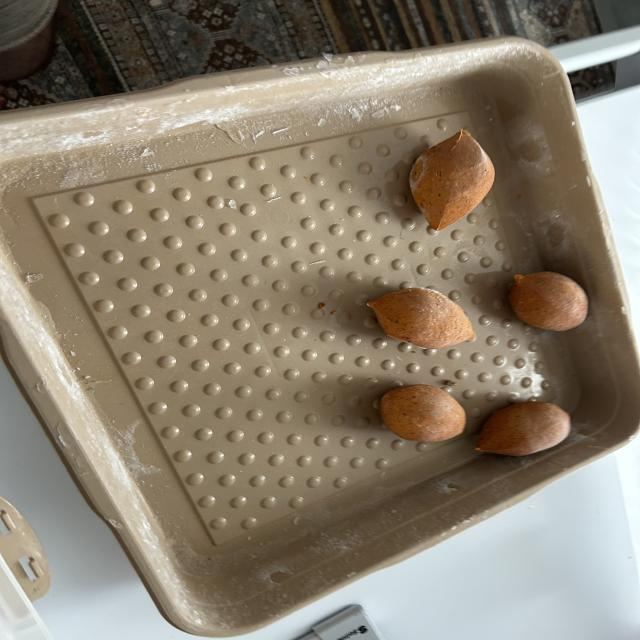kobi: (405, 130, 493, 239), (468, 397, 579, 458), (363, 290, 481, 346), (506, 273, 602, 330), (378, 387, 471, 442)
